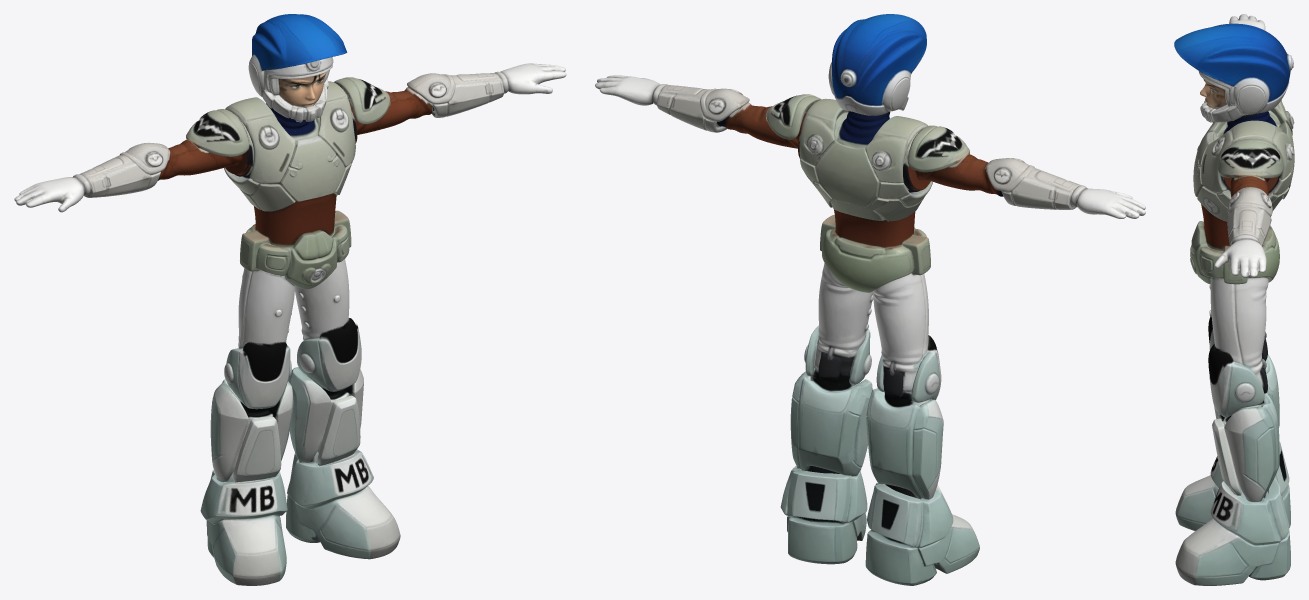
File: scott-bernard-gear-ni-rigged.glb
3 views of the same model, side by side, from view 1: azimuth 30°, elevation 25°; view 2: azimuth 150°, elevation 25°; view 3: azimuth 270°, elevation 25° (orthographic). The views are drawn at different scales.
Bounding box in the file's own units: 1.9 × 1.75 × 0.3693.
1 material, 1 textured.
